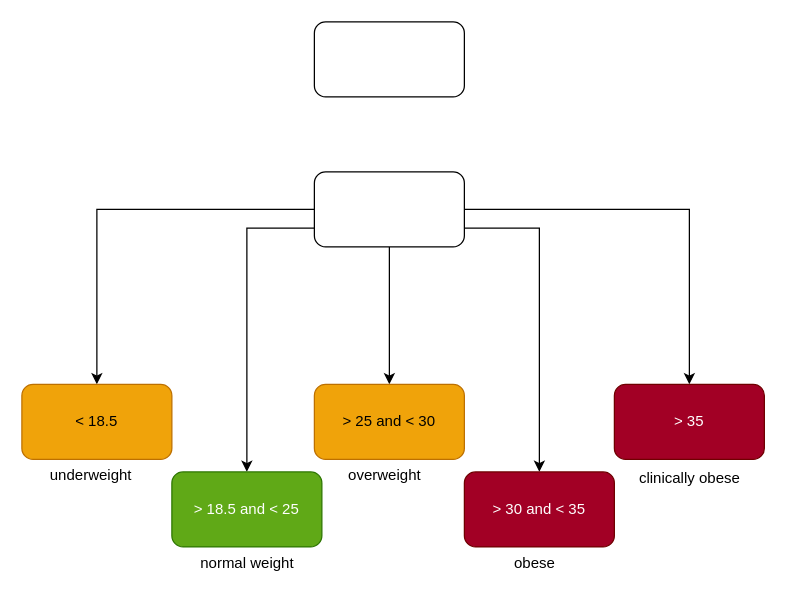
The diagram is 786 pixels wide and 604 high, and some of its shapes have lost their labels. The shapes that lost their labels are listed below. From the top down, each one's centre as x and y in pixels, then its label:
At pixel 388 59: "Start".
At pixel 388 209: "BMI".
